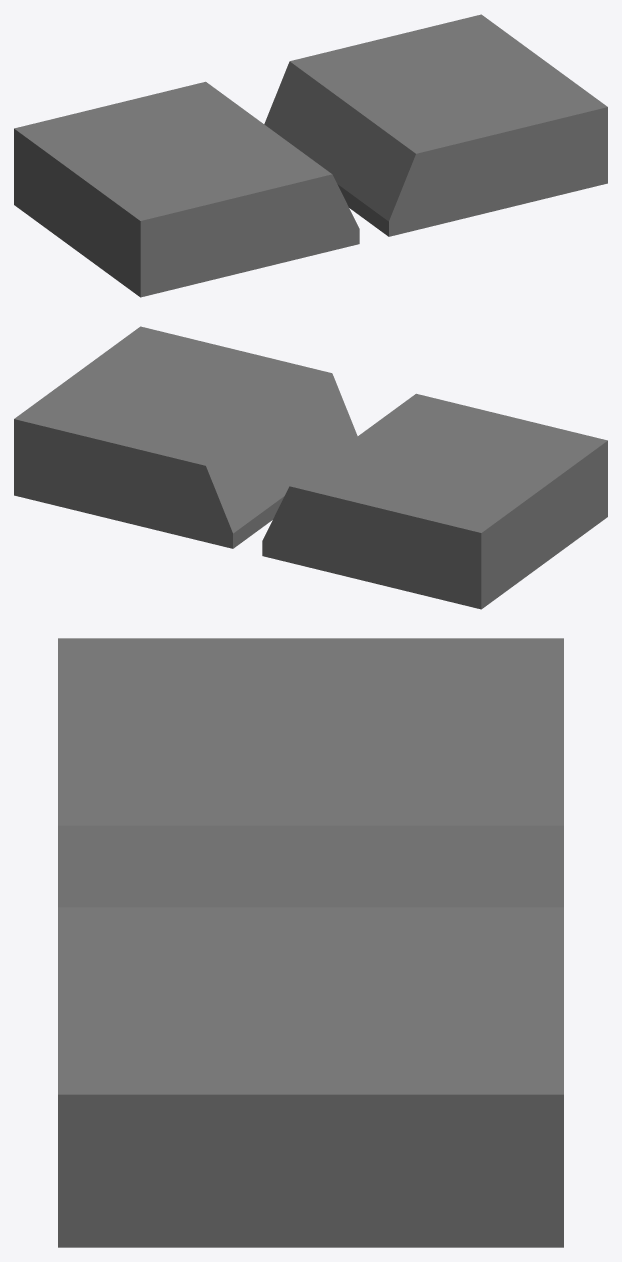
File: С17_Кромки.glb
3 views of the same model, one above another, from view 1: azimuth 30°, elevation 25°; view 2: azimuth 150°, elevation 25°; view 3: azimuth 270°, elevation 25° (orthographic). The views are drawn at different scales.
Parts seen in each view (by area): view 1: node_id3; view 2: node_id3; view 3: node_id3.
Boxes of the visible parts, x1,y1,x2,y2 form: node_id3: [14, 14, 607, 297]; node_id3: [14, 326, 607, 609]; node_id3: [58, 638, 563, 1247].
Size of the model in its own units: 0.512 by 0.08 by 0.24.
Materials: 1 (1 with a texture image).
